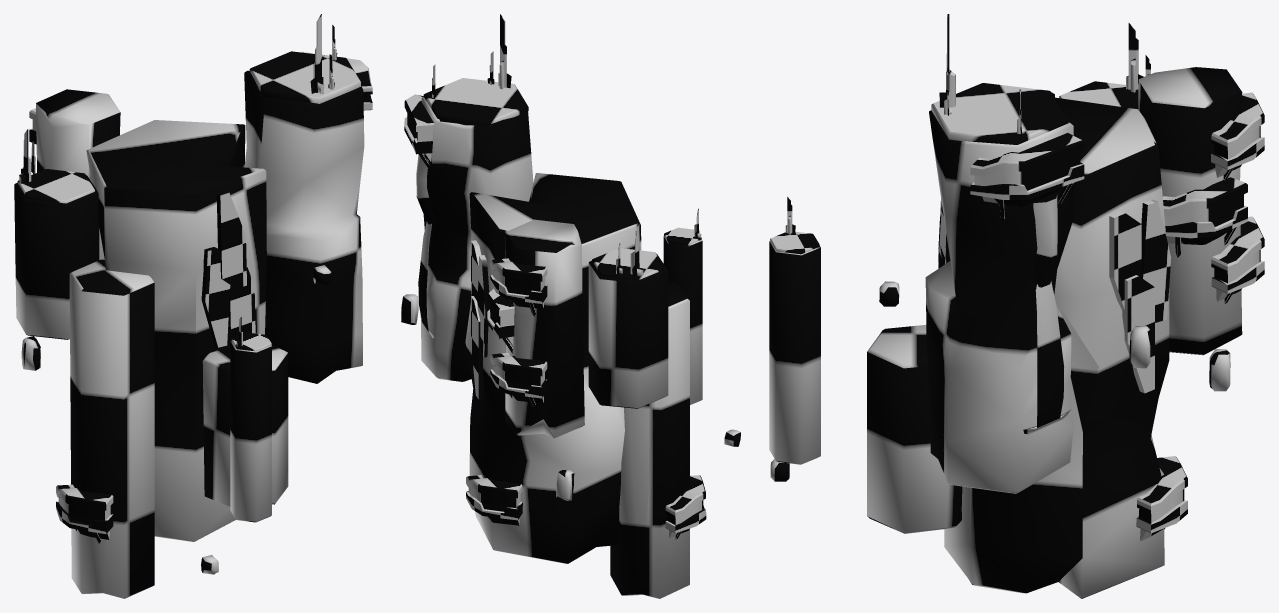
File: streuner_blockzone01.obj
3 renders of one model, left to right at view 1: azimuth 30°, elevation 25°; view 2: azimuth 150°, elevation 25°; view 3: azimuth 270°, elevation 25°, orthographic. The views are drawn at different scales.
Parts seen in each view (by area): view 1: lowpoly_ingame; view 2: lowpoly_ingame; view 3: lowpoly_ingame.
Part boxes in pixels (x1,y1,x2,y2): lowpoly_ingame: (14, 14, 372, 598); lowpoly_ingame: (401, 14, 740, 598); lowpoly_ingame: (769, 14, 1264, 598).
Size of the model in its own units: 355 by 599 by 401.
1 material, 1 textured.
